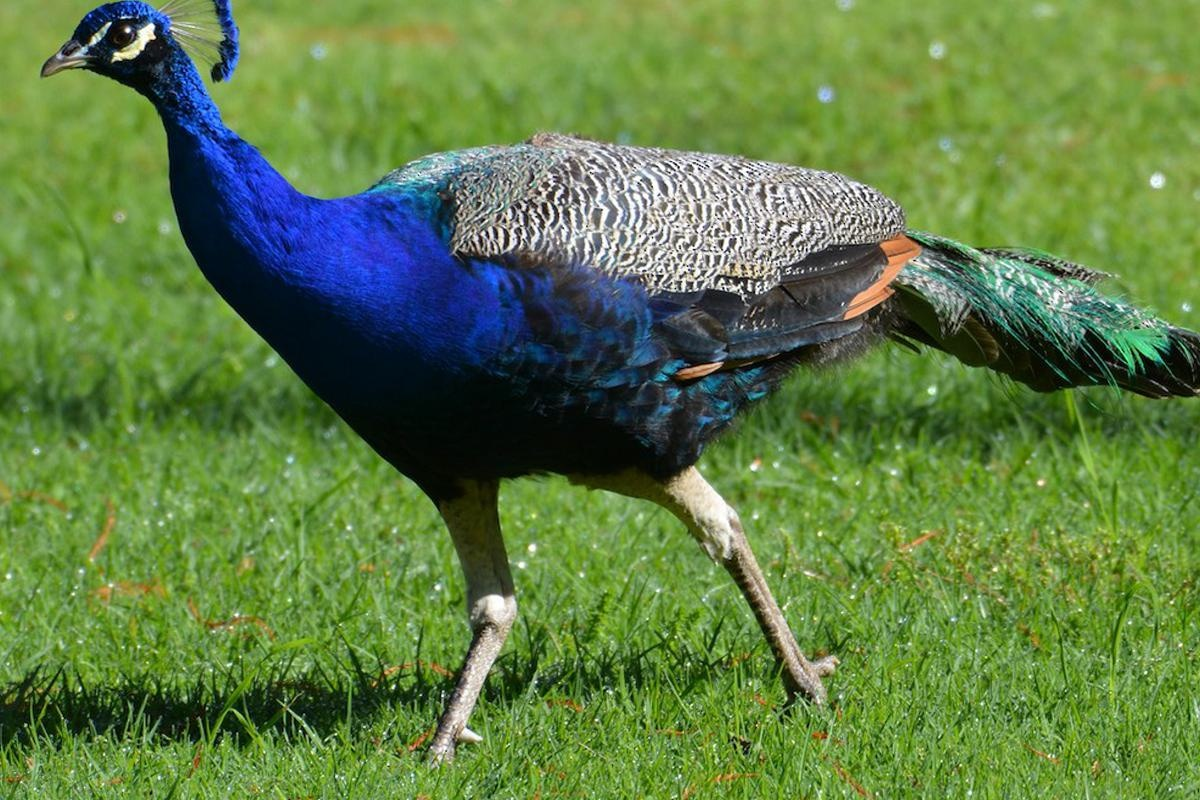peacock: (70, 13, 1146, 667)
